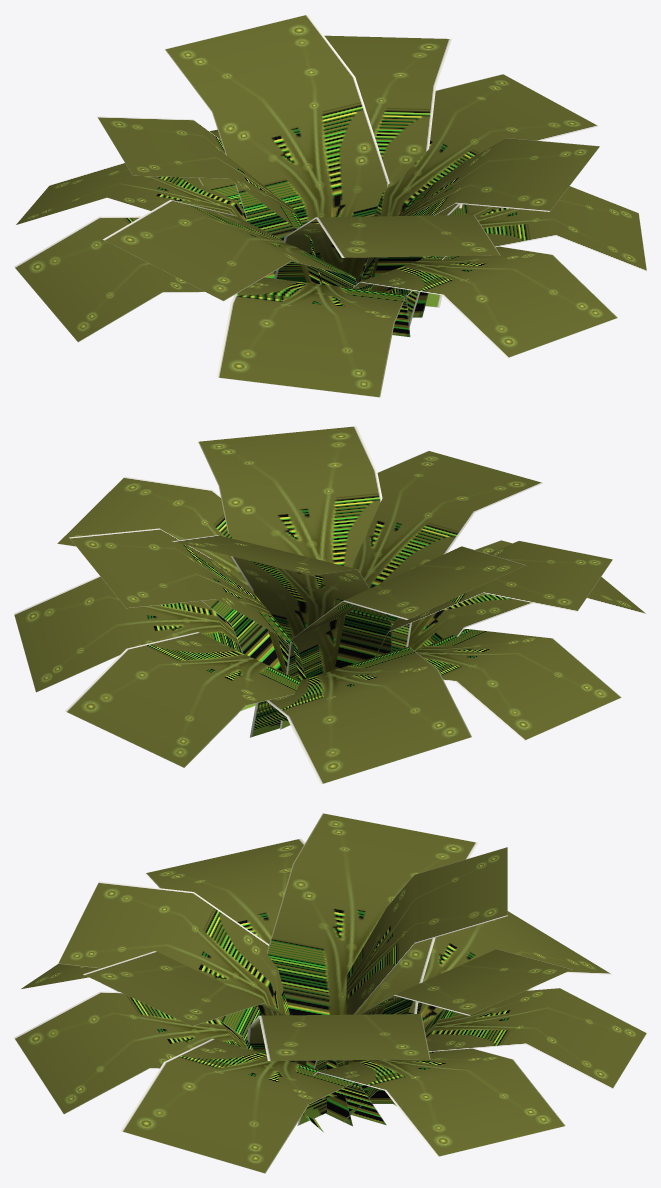
Rendered from SeaWeed_06.FBX.
3 views of the same model, one above another, from view 1: azimuth 30°, elevation 25°; view 2: azimuth 150°, elevation 25°; view 3: azimuth 270°, elevation 25° (orthographic). The views are drawn at different scales.
Parts seen in each view (by area): view 1: SeaWeed_06; view 2: SeaWeed_06; view 3: SeaWeed_06.
Part boxes in pixels (box(x1,y1,x2,y2)): SeaWeed_06: box(14, 14, 646, 397); SeaWeed_06: box(14, 426, 645, 784); SeaWeed_06: box(14, 813, 646, 1173).
Size of the model in its own units: 47.84 by 18.56 by 48.06.
